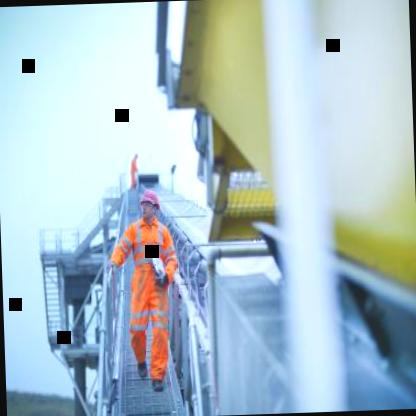helmet: (137, 188, 162, 224)
